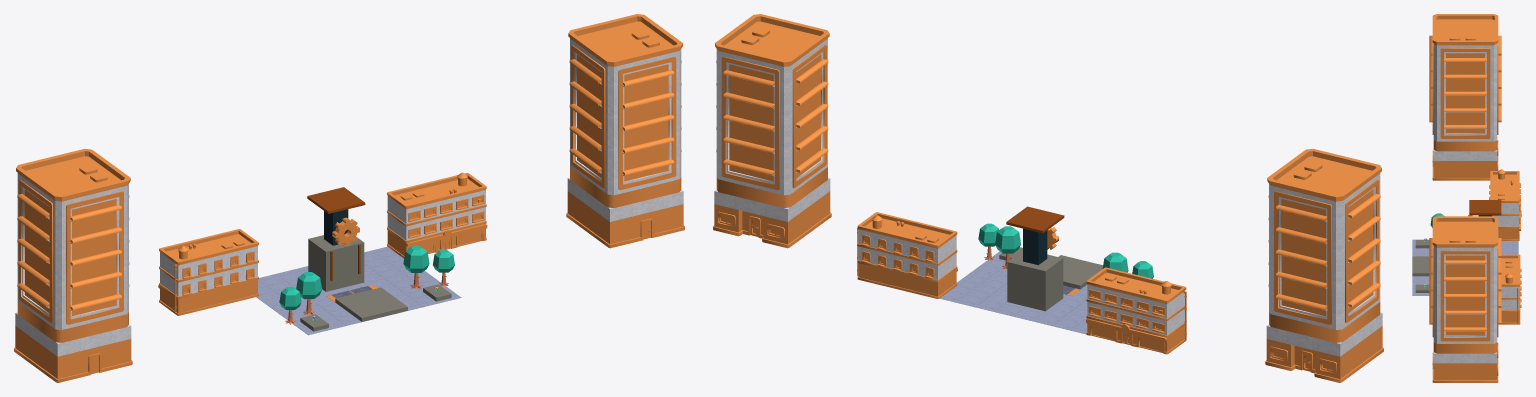
File: Street-4.obj
3 renders of one model, left to right at view 1: azimuth 30°, elevation 25°; view 2: azimuth 150°, elevation 25°; view 3: azimuth 270°, elevation 25°, orthographic. The views are drawn at different scales.
Parts seen in each view (by area): view 1: surface6, surface5, surface2, surface4, surface10, surface16, surface18; view 2: surface6, surface5, surface2, surface4, surface10, surface16, surface17; view 3: surface6, surface5, surface2, surface4, surface16.
Boxes of the visible parts, box(x1,y1,x2,y2) form: surface6: box(14, 14, 684, 382); surface5: box(15, 39, 683, 356); surface2: box(256, 246, 461, 335); surface4: box(300, 235, 451, 331); surface10: box(279, 245, 454, 310); surface16: box(307, 187, 365, 280); surface18: box(332, 217, 359, 246); surface6: box(713, 14, 1383, 382); surface5: box(714, 39, 1382, 356); surface2: box(940, 251, 1087, 334); surface4: box(999, 247, 1102, 311); surface10: box(978, 223, 1153, 278); surface16: box(1006, 206, 1064, 233); surface17: box(1023, 228, 1047, 265); surface6: box(1429, 14, 1521, 382); surface5: box(1433, 44, 1519, 363); surface2: box(1412, 239, 1518, 295); surface4: box(1412, 231, 1498, 292); surface16: box(1469, 200, 1501, 215).
Size of the model in its own units: 82.88 by 23.05 by 16.45.
